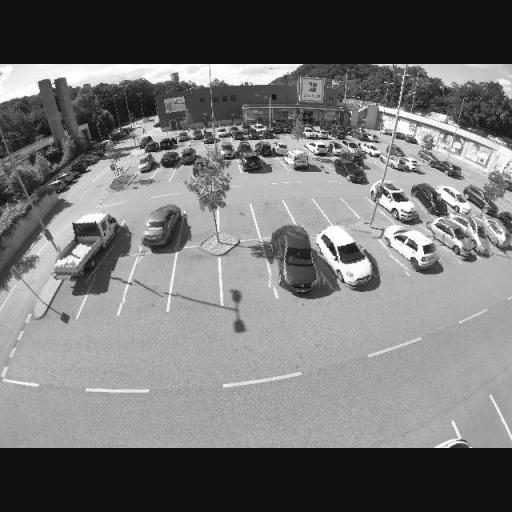busy: (55, 205, 118, 286), (316, 224, 378, 292), (270, 223, 328, 295), (385, 223, 437, 273), (432, 215, 482, 263), (136, 202, 182, 251), (374, 182, 418, 223), (462, 219, 498, 258), (411, 182, 448, 216), (478, 218, 512, 251), (335, 158, 366, 184), (440, 186, 470, 208), (284, 146, 311, 170), (434, 162, 464, 179), (135, 152, 158, 174), (240, 152, 264, 173), (160, 150, 181, 168), (177, 148, 196, 166), (216, 142, 236, 159), (382, 155, 405, 168), (271, 139, 289, 155), (309, 141, 328, 155), (256, 140, 272, 156), (155, 136, 173, 150), (234, 140, 252, 154), (203, 132, 218, 146), (365, 144, 381, 157)
free: (224, 257, 266, 297), (132, 258, 170, 296), (176, 267, 216, 301), (92, 271, 124, 307), (469, 422, 507, 447), (184, 212, 214, 240), (221, 210, 251, 234), (257, 206, 287, 226), (121, 223, 145, 246), (293, 203, 317, 221), (417, 162, 439, 179), (131, 171, 151, 189), (355, 202, 378, 217), (325, 202, 347, 217), (362, 155, 382, 170), (305, 158, 324, 172), (174, 169, 192, 183), (223, 162, 238, 174), (156, 170, 172, 180), (268, 162, 281, 170)
